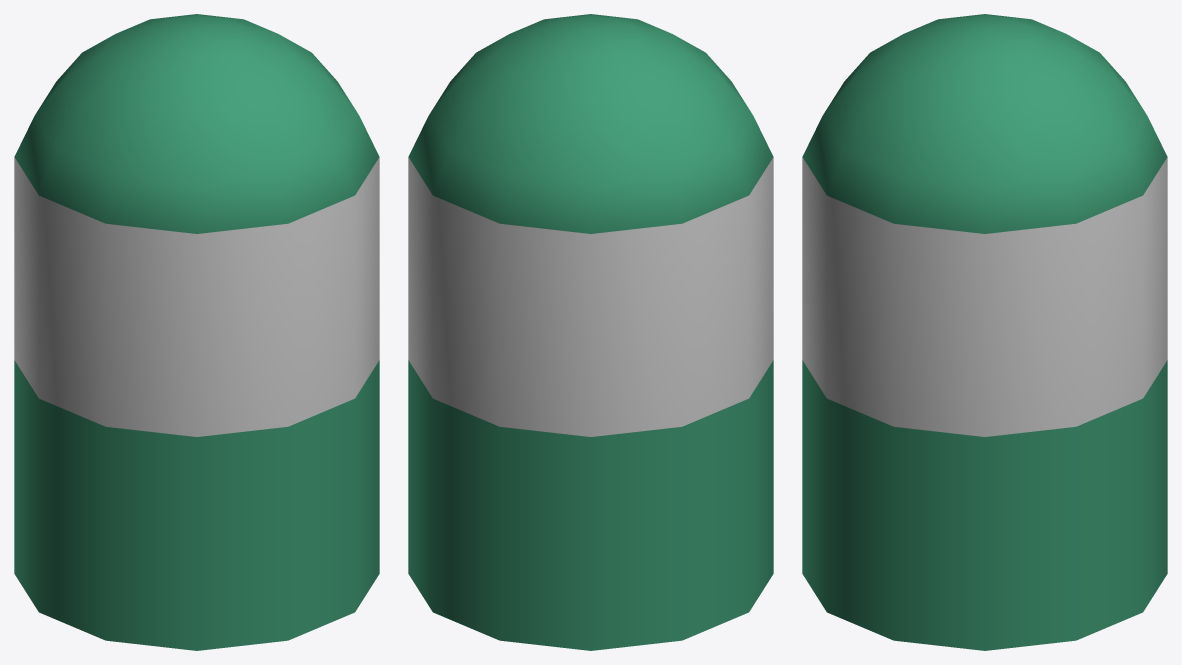
The model's file is tank-big.fbx.
3 views of the same model, side by side, from view 1: azimuth 30°, elevation 25°; view 2: azimuth 150°, elevation 25°; view 3: azimuth 270°, elevation 25° (orthographic).
Visible parts, largest first — view 1: big_tank_down1; view 2: big_tank_down1; view 3: big_tank_down1.
Boxes of the visible parts, x1,y1,x2,y2 form: big_tank_down1: [14, 14, 379, 650]; big_tank_down1: [408, 14, 773, 650]; big_tank_down1: [802, 14, 1167, 650].
Size of the model in its own units: 3865 by 6340 by 3865.
